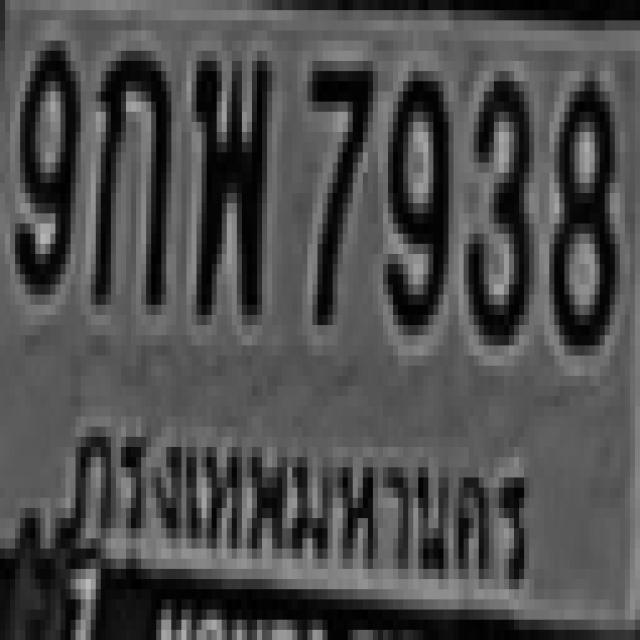10GorGai: (86, 41, 166, 304)
3: (464, 61, 529, 335)
39PhorPan: (192, 46, 267, 310)
7: (305, 51, 370, 315)
8: (549, 71, 610, 346)
9: (10, 31, 76, 284), (383, 61, 443, 325)
Bangkok: (64, 397, 547, 605)
